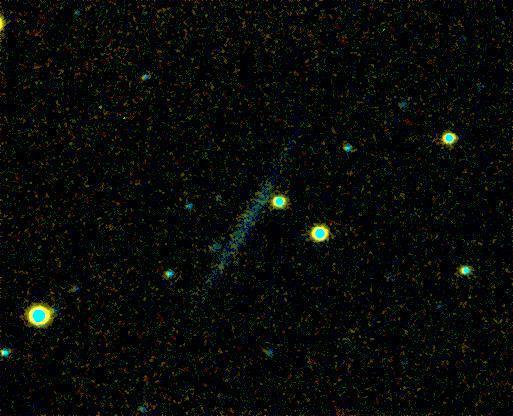star: (204, 250, 234, 280)
